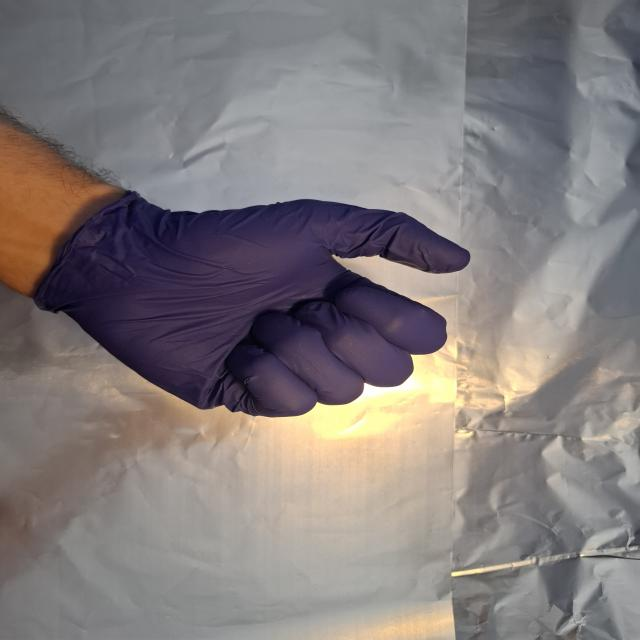glove_on: (37, 188, 475, 423)
